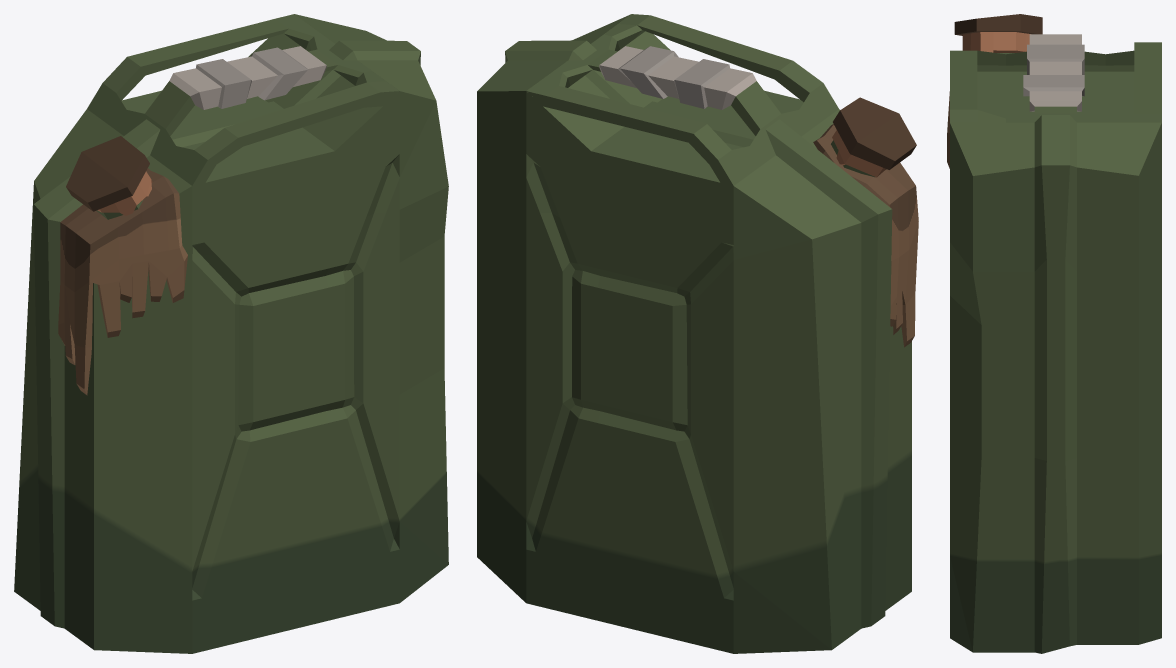
Rendered from SM_Canister_B.gltf.
3 views of the same model, side by side, from view 1: azimuth 30°, elevation 25°; view 2: azimuth 150°, elevation 25°; view 3: azimuth 270°, elevation 25° (orthographic).
Visible parts, largest first — view 1: SM_Canister_B; view 2: SM_Canister_B; view 3: SM_Canister_B.
Boxes of the visible parts, bbox=[...] form: SM_Canister_B: bbox=[14, 14, 448, 653]; SM_Canister_B: bbox=[477, 14, 918, 653]; SM_Canister_B: bbox=[947, 14, 1161, 653].
Size of the model in its own units: 0.4182 by 0.5601 by 0.207.
1 material, 1 textured.
